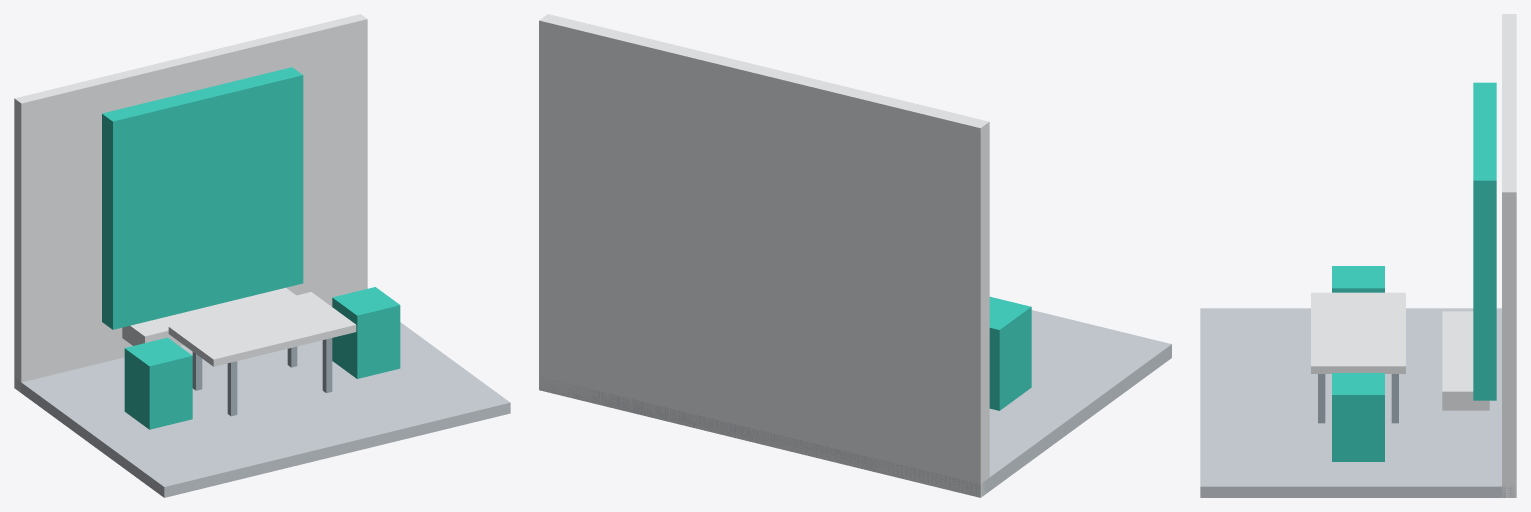
The picture shows the model from 3 angles, left to right: view 1: azimuth 30°, elevation 25°; view 2: azimuth 150°, elevation 25°; view 3: azimuth 270°, elevation 25°; orthographic projection. The views are drawn at different scales.
Parts seen in each view (by area): view 1: Exhibition Booth Concept; view 2: Exhibition Booth Concept; view 3: Exhibition Booth Concept.
Part boxes in pixels (x1=…): Exhibition Booth Concept: x1=14, y1=14, x2=510, y2=497; Exhibition Booth Concept: x1=539, y1=14, x2=1171, y2=497; Exhibition Booth Concept: x1=1200, y1=14, x2=1516, y2=497.
Size of the model in its own units: 4 by 3.2 by 3.
